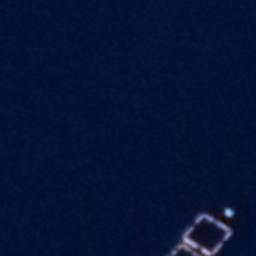square_solid: (180, 212, 234, 256)
